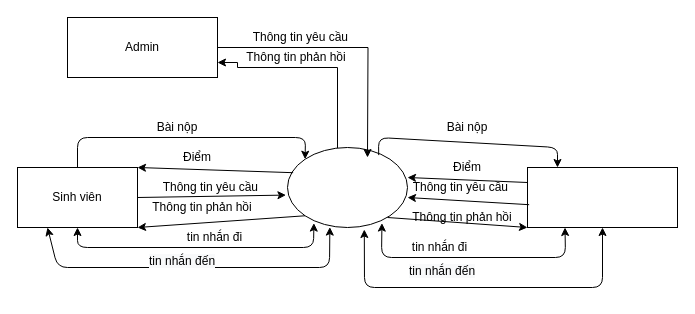
Image size: 695x314. Some labels were removed from this diagram. Each missing label, with the box of its shape:
Classrom: (286, 146, 408, 228)
Giáo viên: (526, 166, 678, 228)
